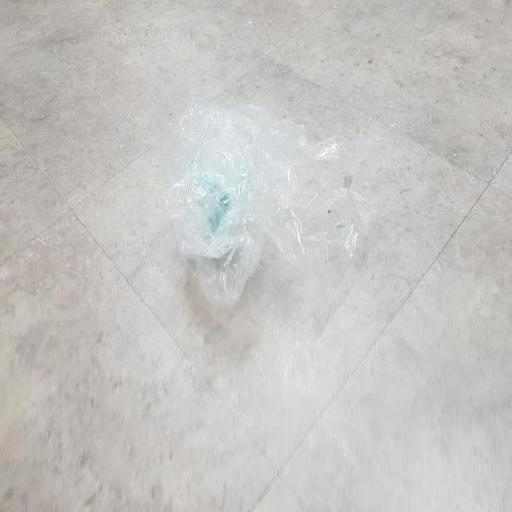plastic-bag: (155, 98, 383, 314)
